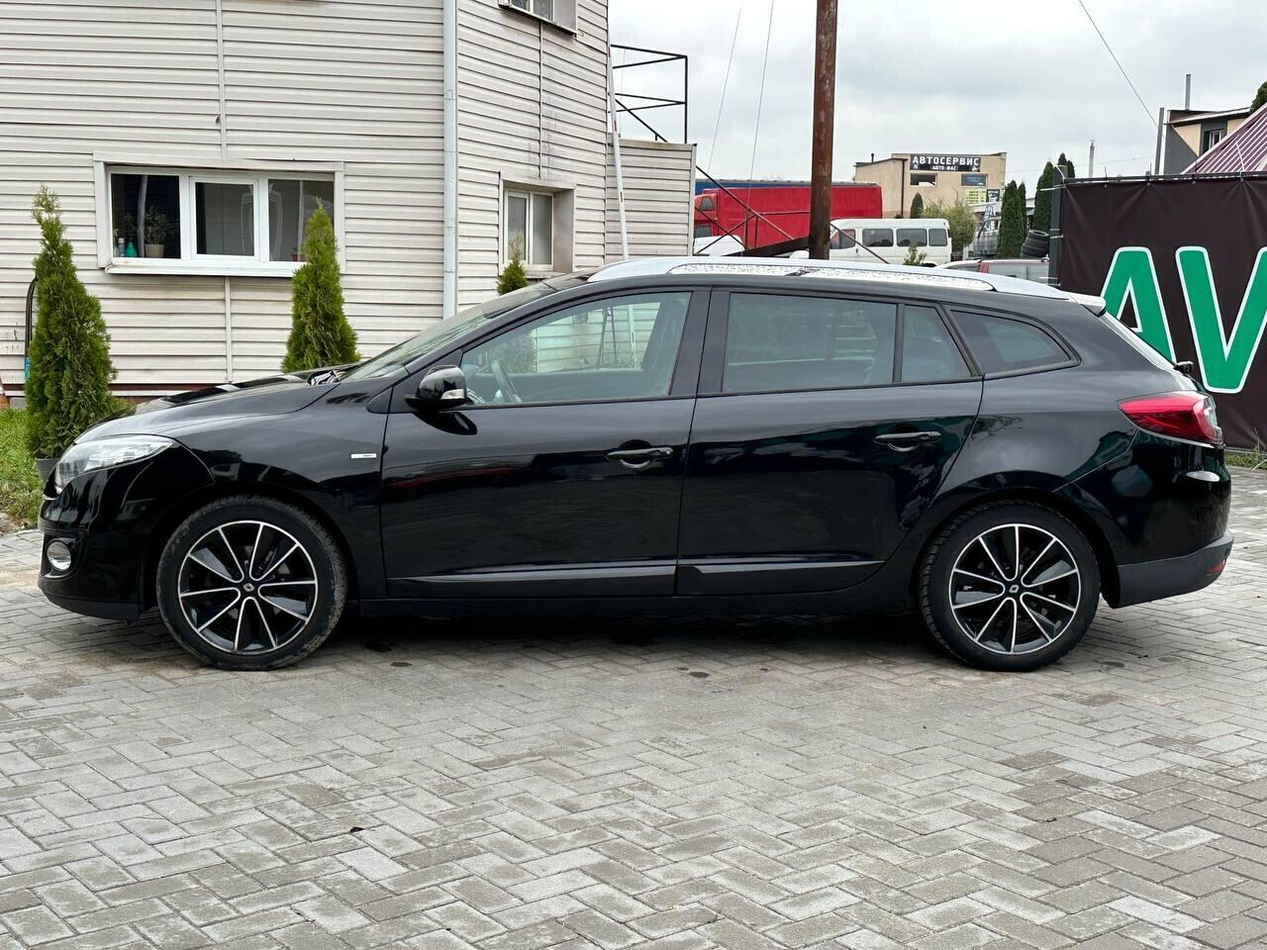Megane_2012-2014: (33, 254, 1240, 675)
